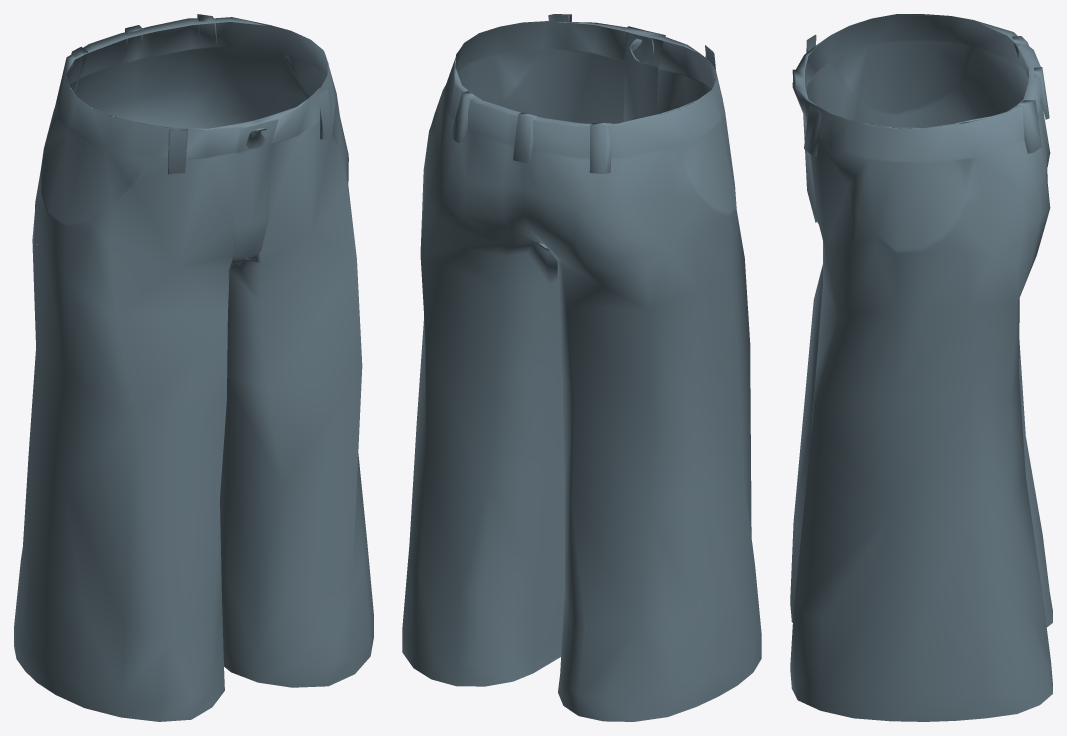
Rendered from cropped-only.glb.
3 renders of one model, left to right at view 1: azimuth 30°, elevation 25°; view 2: azimuth 150°, elevation 25°; view 3: azimuth 270°, elevation 25°, orthographic.
Parts seen in each view (by area): view 1: Lowerwear_cropped; view 2: Lowerwear_cropped; view 3: Lowerwear_cropped.
Part boxes in pixels (x1,y1,x2,y2): Lowerwear_cropped: (14,14,373,721); Lowerwear_cropped: (402,14,761,721); Lowerwear_cropped: (790,14,1052,721).
Size of the model in its own units: 1.01 by 1.81 by 0.7365.
